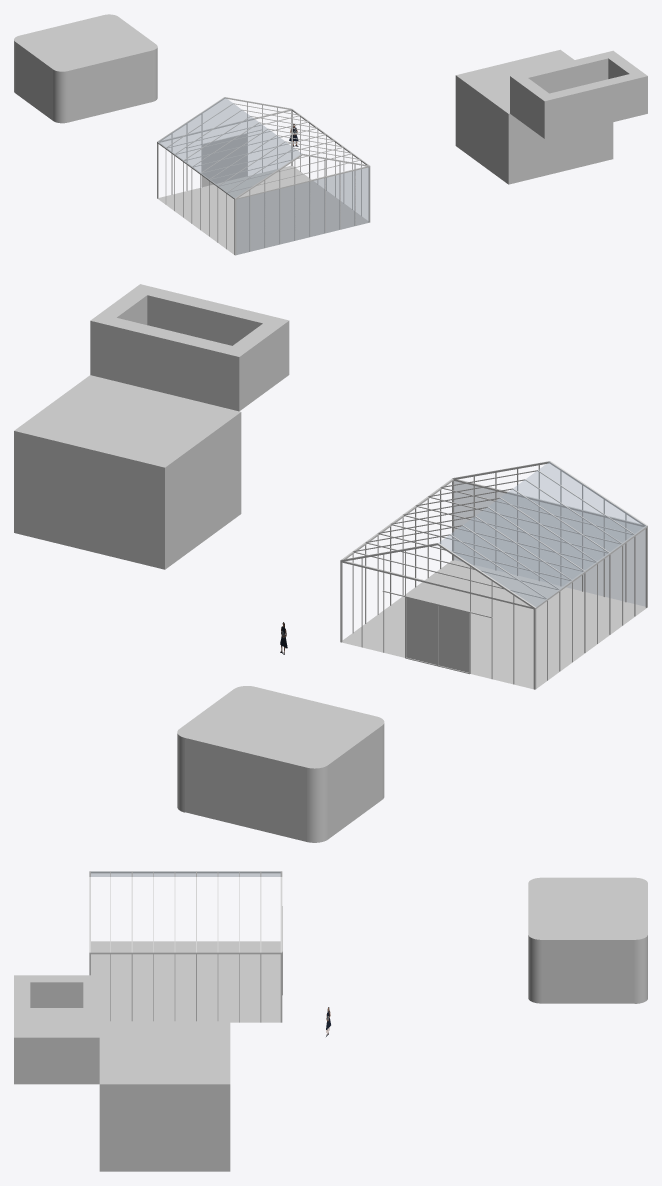
File: Мой первый 3Д.dae
The picture shows the model from 3 angles, top to bottom: view 1: azimuth 30°, elevation 25°; view 2: azimuth 150°, elevation 25°; view 3: azimuth 270°, elevation 25°; orthographic projection. The views are drawn at different scales.
Visible parts, largest first — view 1: SketchUp (×3), group_42 (×4), group_0, group_60 (×2); view 2: group_42 (×4), SketchUp (×3), group_0, group_60 (×2); view 3: group_42 (×4), SketchUp (×2), group_0, group_5, group_6.
Part boxes in pixels (x1=…): SketchUp (×3): x1=14, y1=14, x2=368, y2=254; group_42 (×4): x1=455, y1=49, x2=647, y2=184; group_0: x1=158, y1=165, x2=368, y2=254; group_60 (×2): x1=202, y1=134, x2=246, y2=186; group_42 (×4): x1=14, y1=284, x2=289, y2=569; SketchUp (×3): x1=177, y1=462, x2=646, y2=842; group_0: x1=342, y1=560, x2=646, y2=689; group_60 (×2): x1=405, y1=597, x2=470, y2=674; group_42 (×4): x1=14, y1=975, x2=230, y2=1171; SketchUp (×2): x1=91, y1=871, x2=647, y2=1003; group_0: x1=91, y1=941, x2=280, y2=1022; group_5: x1=91, y1=952, x2=280, y2=954; group_6: x1=91, y1=871, x2=280, y2=873.
Bounding box in the file's own units: 1113 × 1294 × 302.
